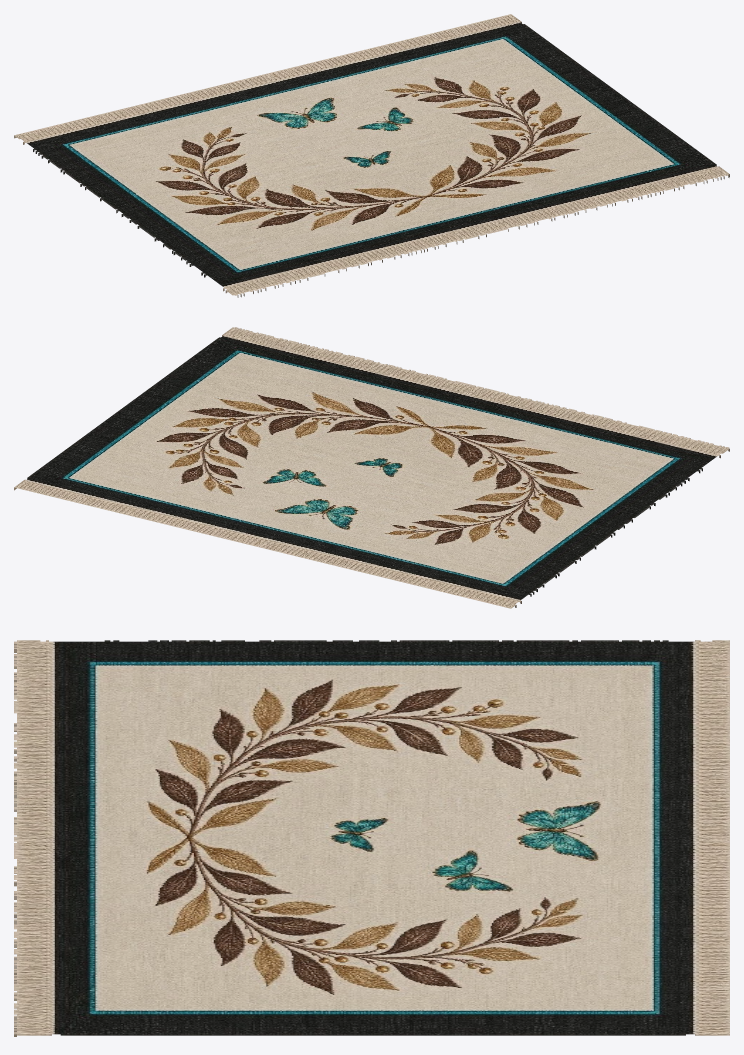
Rendered from TH-11_rug_game.glb.
3 views of the same model, one above another, from view 1: azimuth 30°, elevation 25°; view 2: azimuth 150°, elevation 25°; view 3: azimuth 270°, elevation 25° (orthographic). The views are drawn at different scales.
Visible parts, largest first — view 1: TH-11_rug; view 2: TH-11_rug; view 3: TH-11_rug.
Part boxes in pixels (x1,y1,x2,y2): TH-11_rug: (14, 14, 729, 297); TH-11_rug: (14, 327, 729, 608); TH-11_rug: (14, 640, 729, 1036).
Bounding box in the file's own units: 2 × 0.012 × 1.53.
1 material, 1 textured.
